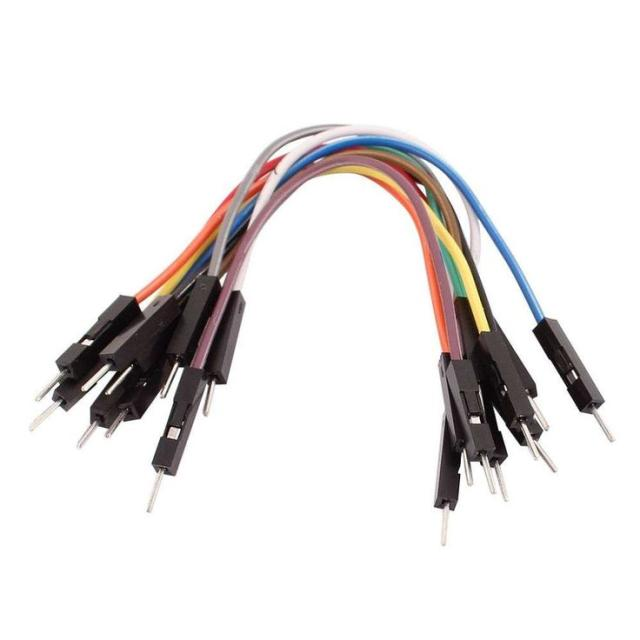Jumper Wires: (6, 74, 634, 578)
